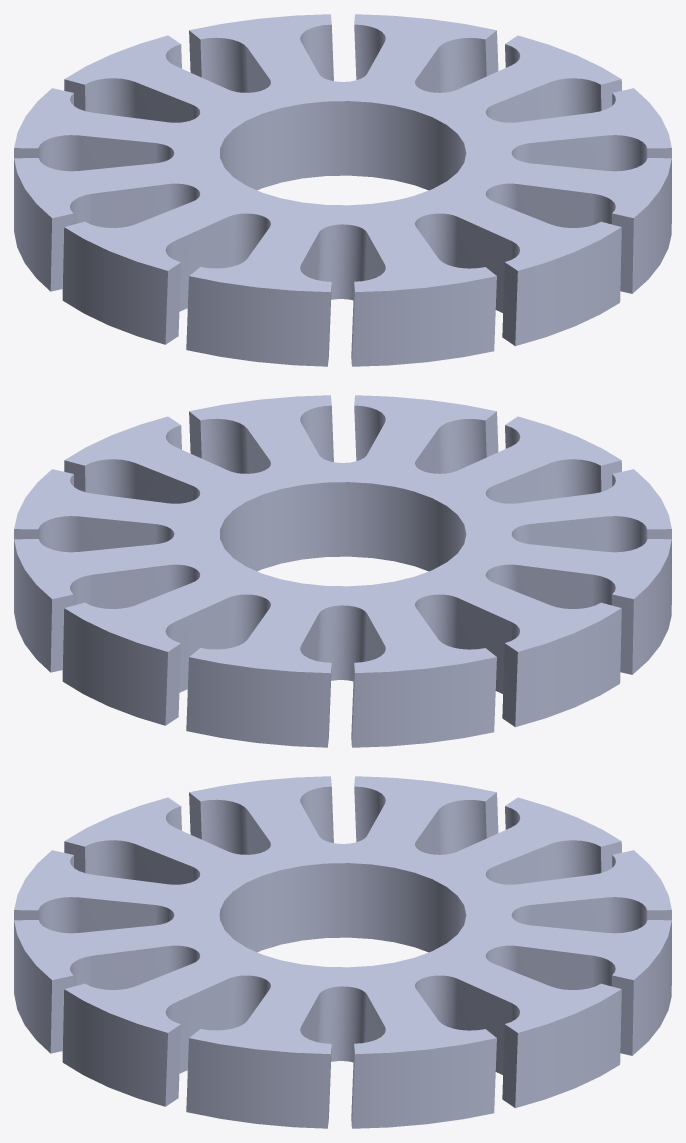
Rendered from stator-model.glb.
3 views of the same model, one above another, from view 1: azimuth 30°, elevation 25°; view 2: azimuth 150°, elevation 25°; view 3: azimuth 270°, elevation 25° (orthographic).
Parts seen in each view (by area): view 1: SkewedStator (1); view 2: SkewedStator (1); view 3: SkewedStator (1).
Boxes of the visible parts, x1,y1,x2,y2 form: SkewedStator (1): (14, 14, 671, 366); SkewedStator (1): (14, 395, 671, 747); SkewedStator (1): (14, 776, 671, 1128).
Bounding box in the file's own units: 0.04 × 0.005 × 0.04.
